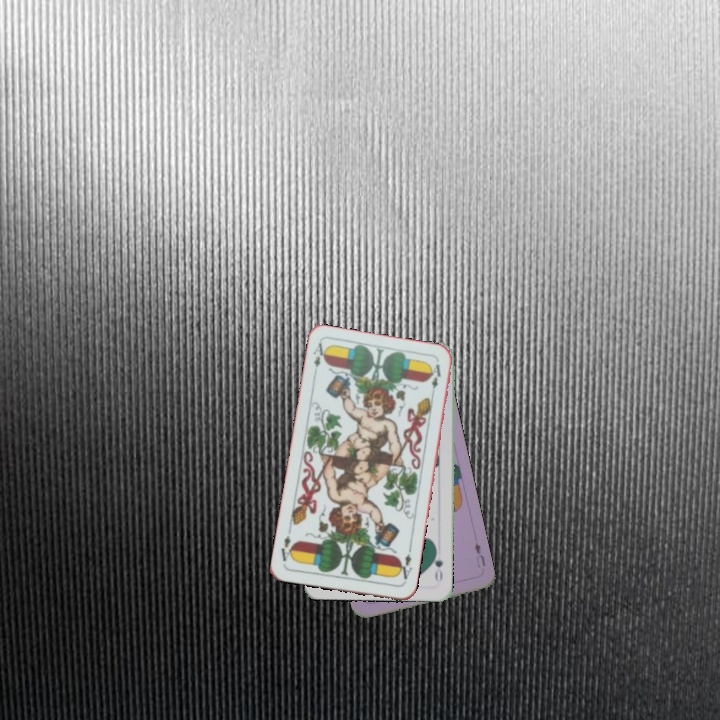EA: (394, 545, 415, 585), (309, 339, 329, 379)
EU: (470, 538, 488, 570)
GO: (429, 545, 446, 585)
